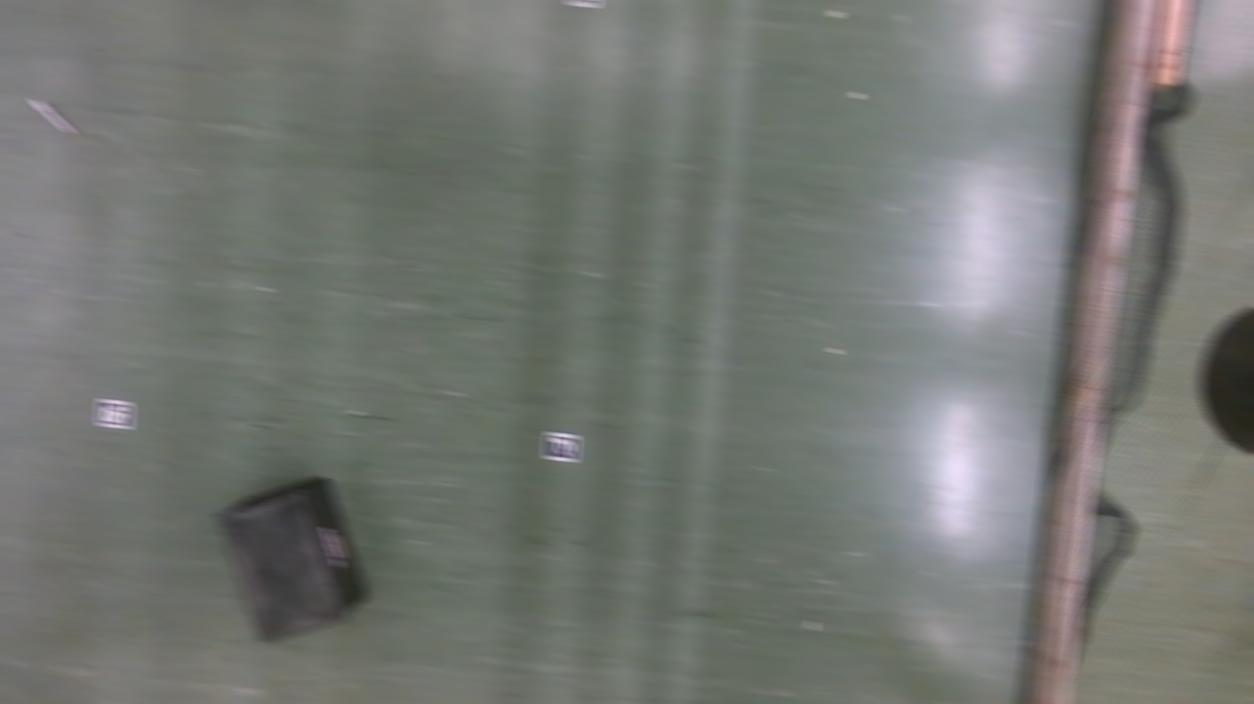probes: (31, 100, 78, 137)
rako: (216, 475, 372, 643)
